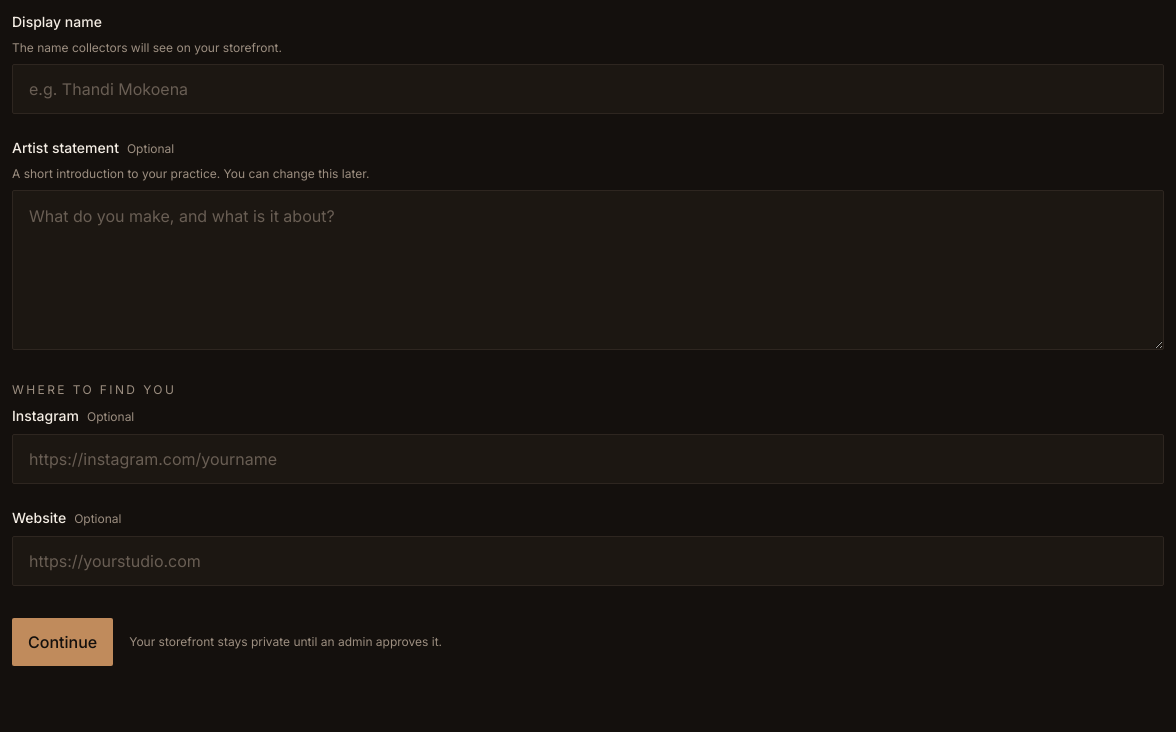
ArtistProfileForm — validation › rejects a social link that is not a URL
Type "Thandi Mokoena" into the field labelled "Display name" at (588, 89), box [12,64,1164,114]
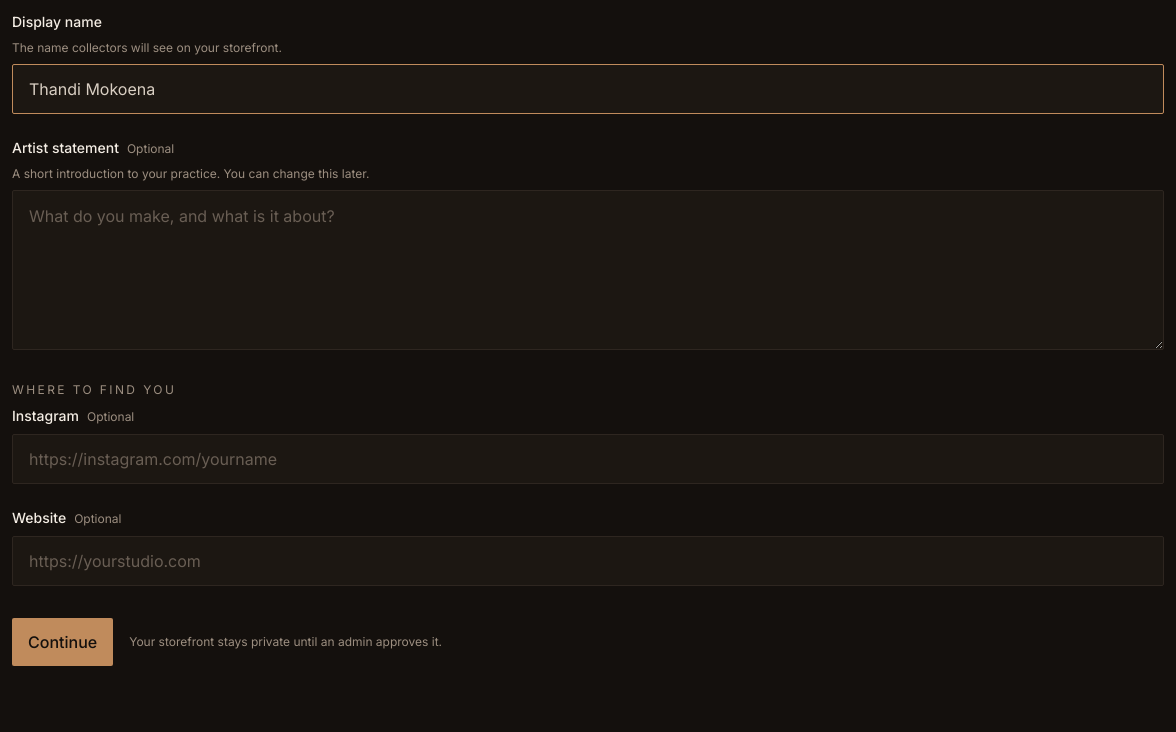
Type "thandi" into the field labelled "Instagram" at (588, 459), box [12,434,1164,484]
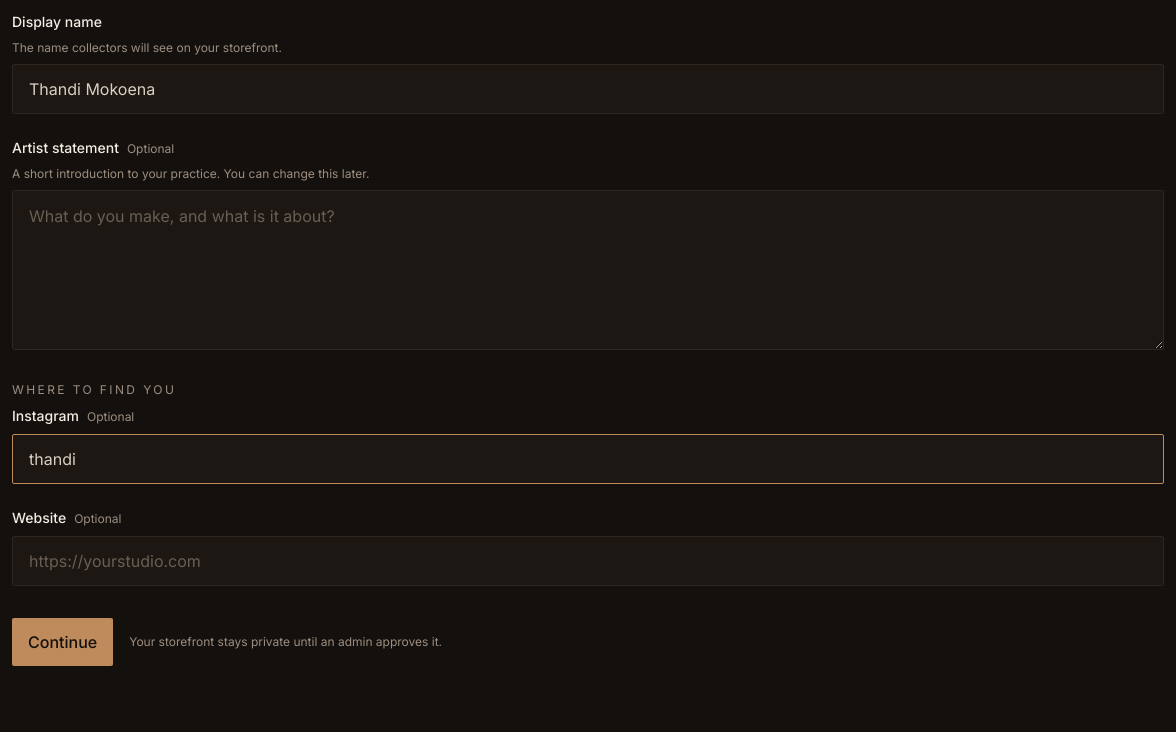
Click the button "Continue" at (63, 642), box [12,618,113,666]
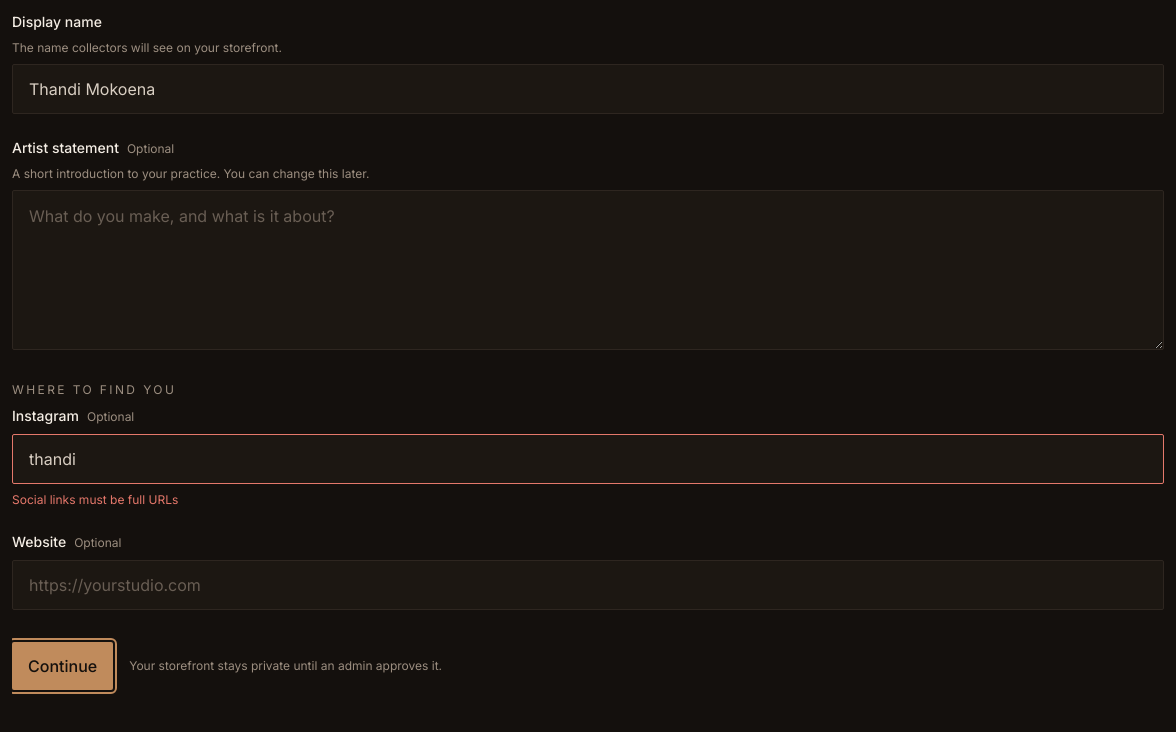
Expected: the text "Social links must be full URLs" is shown, [12,492,178,507]
